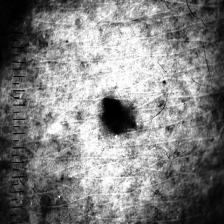Benign Marking or Mole: (102, 96, 127, 134)
